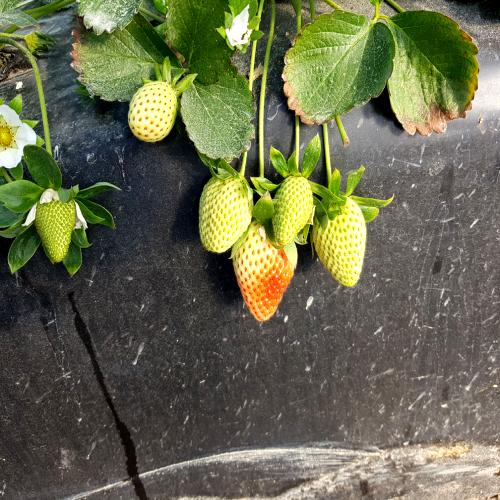unripe: (320, 192, 373, 288), (122, 73, 182, 156), (199, 169, 251, 258), (277, 169, 315, 252)
